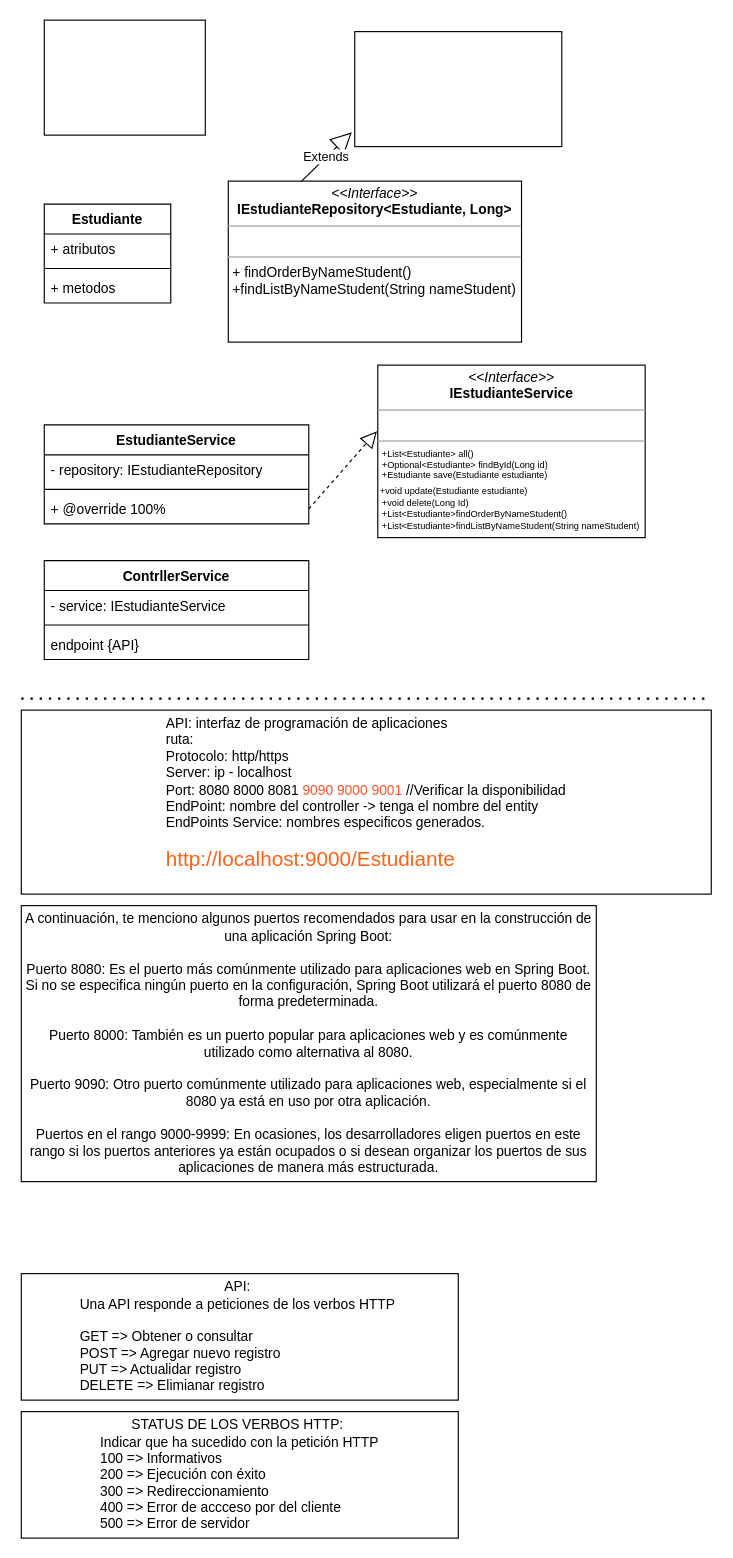
Image size: 733x1558. Some labels were removed from this diagram. Each missing label, with the centre of its shape:
"1. Entity 2. Repository 3. IService 4. Service 5. Controller Proyectado DTO" belongs at [124,77].
"<<Interface>> JpaRepository + + method" belongs at [458,88].
